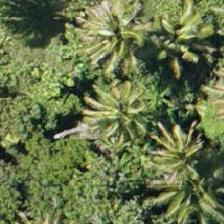coconut_tree: (72, 71, 162, 161), (129, 138, 219, 223), (65, 0, 155, 79), (129, 0, 219, 78)
